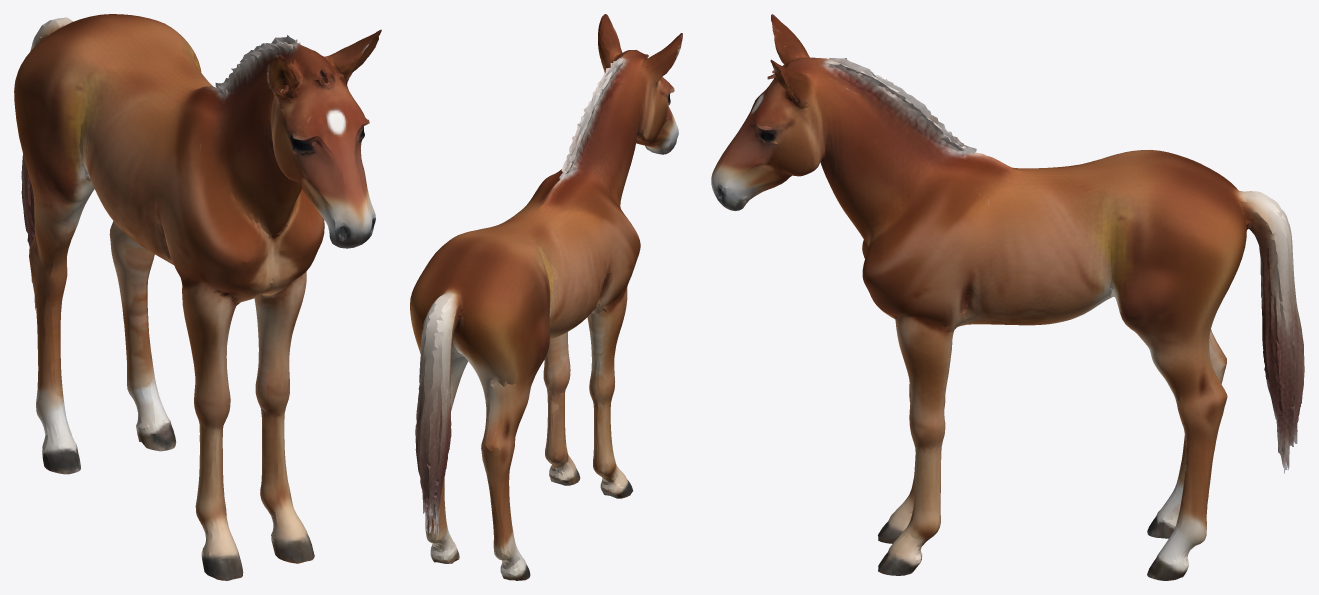
The model's file is foal.glb.
3 views of the same model, side by side, from view 1: azimuth 30°, elevation 25°; view 2: azimuth 150°, elevation 25°; view 3: azimuth 270°, elevation 25° (orthographic). The views are drawn at different scales.
Parts seen in each view (by area): view 1: model; view 2: model; view 3: model.
Boxes of the visible parts, x1,y1,x2,y2 form: model: (14,14,381,580); model: (410,14,682,580); model: (711,14,1304,580).
Size of the model in its own units: 0.5119 by 1.82 by 1.9.
Materials: 1 (1 with a texture image).
